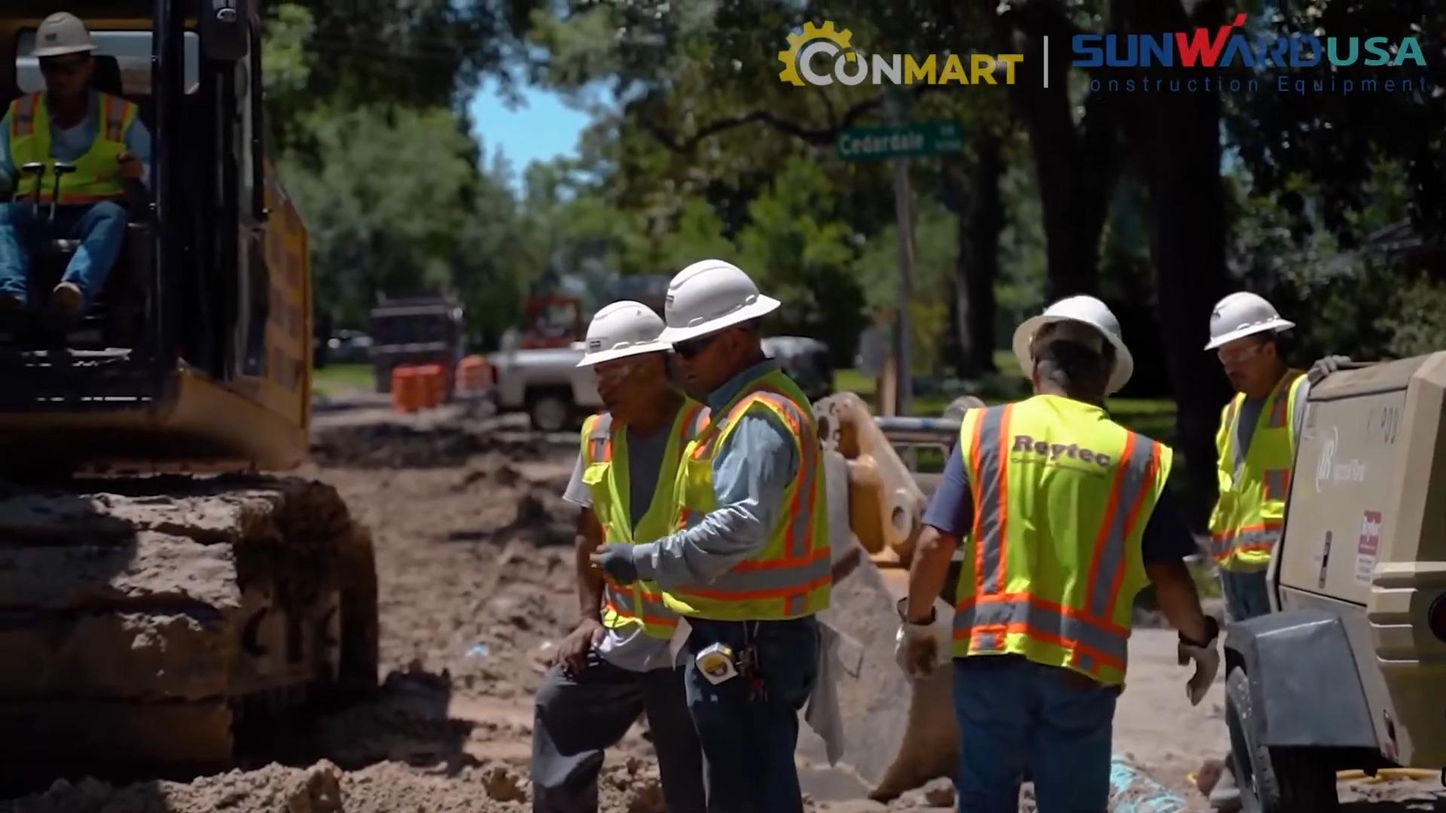Gloves: (896, 602, 947, 691), (1181, 617, 1224, 706), (586, 531, 644, 589), (1299, 341, 1346, 378)
Helmet: (1002, 297, 1135, 378), (667, 241, 768, 337), (567, 303, 676, 363), (1207, 295, 1286, 344), (32, 15, 100, 53)
Person: (909, 314, 1190, 795), (667, 243, 866, 811), (1195, 290, 1357, 811), (548, 267, 689, 807), (0, 11, 152, 325)
Safety Boot: (47, 279, 90, 327)
Safety Vest: (944, 394, 1173, 688), (678, 388, 843, 623), (584, 442, 678, 623), (4, 104, 136, 199), (1218, 405, 1292, 551)
bare-arms: (559, 619, 619, 687), (109, 147, 147, 184)
